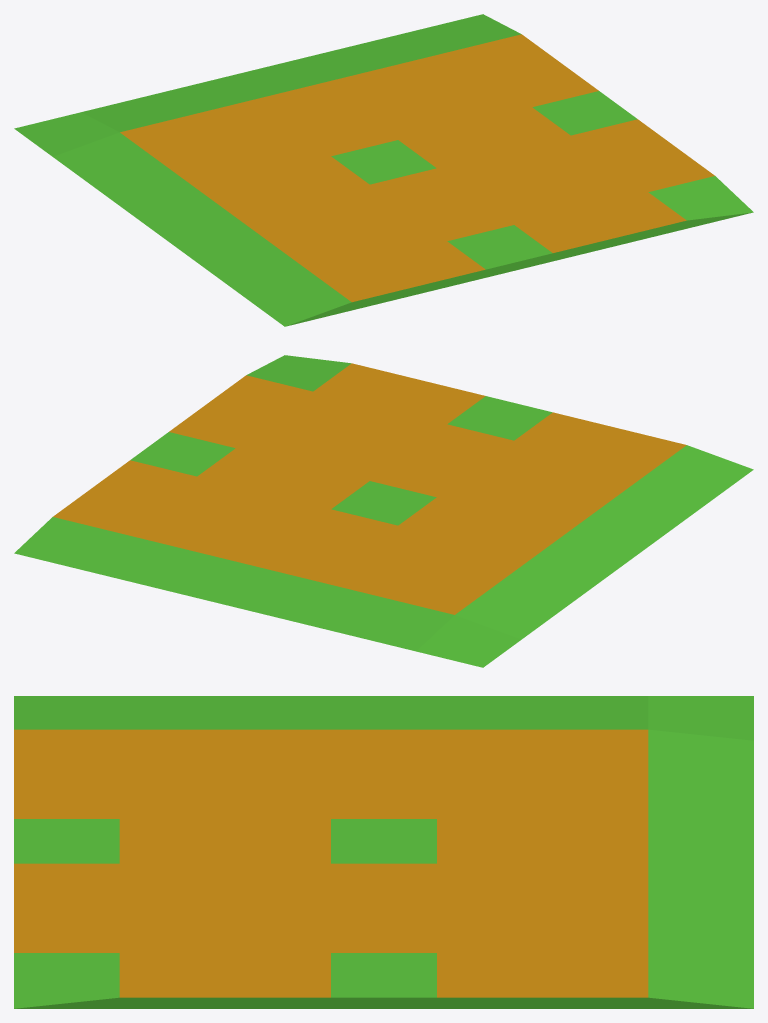
Rendered from Road Corner.fbx.
The picture shows the model from 3 angles, top to bottom: view 1: azimuth 30°, elevation 25°; view 2: azimuth 150°, elevation 25°; view 3: azimuth 270°, elevation 25°; orthographic projection. The views are drawn at different scales.
Visible parts, largest first — view 1: Road Corner; view 2: Road Corner; view 3: Road Corner.
Boxes of the visible parts, left/top/right/bottom form: Road Corner: left=14, top=14, right=753, bottom=326; Road Corner: left=14, top=355, right=753, bottom=667; Road Corner: left=14, top=696, right=753, bottom=1008.
Bounding box in the file's own units: 1200 × 20 × 1200.
